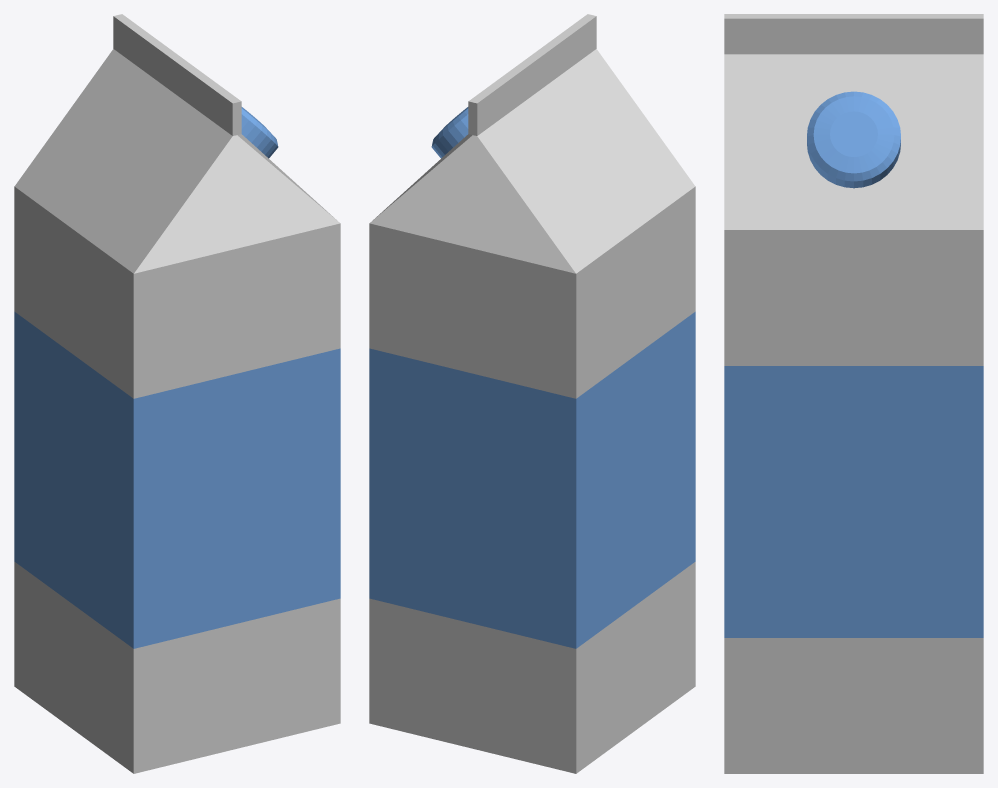
Rendered from milk.glb.
3 views of the same model, side by side, from view 1: azimuth 30°, elevation 25°; view 2: azimuth 150°, elevation 25°; view 3: azimuth 270°, elevation 25° (orthographic). The views are drawn at different scales.
Parts seen in each view (by area): view 1: Cylinder; view 2: Cylinder; view 3: Cylinder.
Part boxes in pixels (x1,y1,x2,y2): Cylinder: (14, 14, 340, 773); Cylinder: (369, 14, 695, 773); Cylinder: (724, 14, 983, 773).
Size of the model in its own units: 2 by 5.98 by 2.
